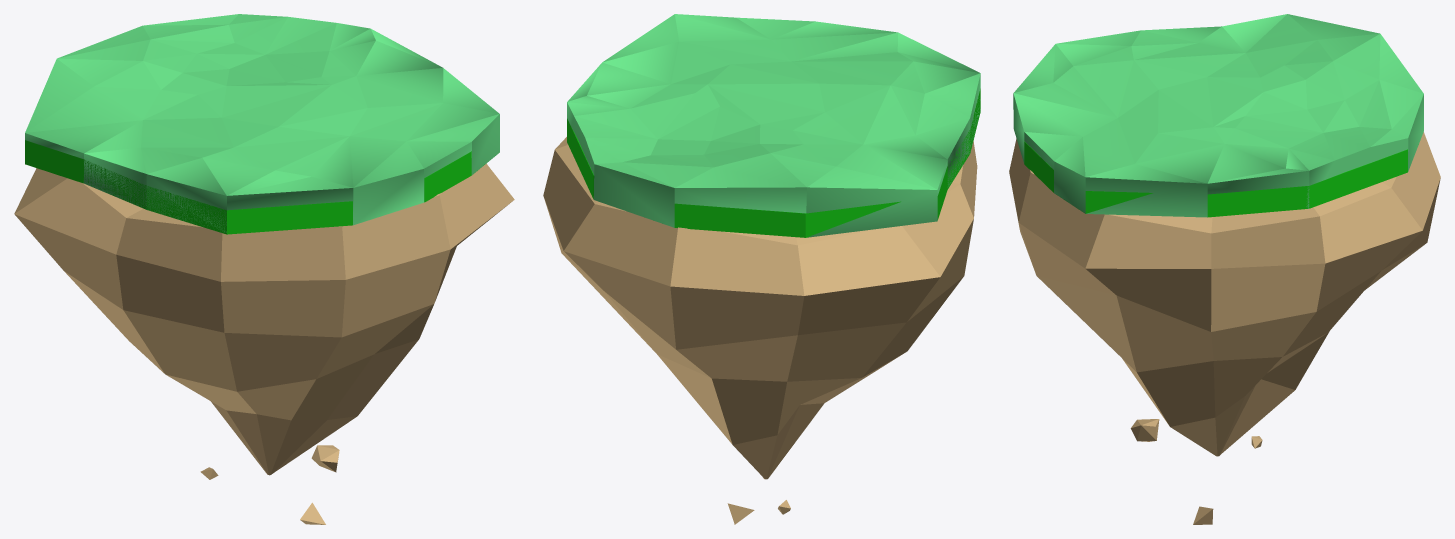
File: Low Poly Island.fbx
The picture shows the model from 3 angles, left to right: view 1: azimuth 30°, elevation 25°; view 2: azimuth 150°, elevation 25°; view 3: azimuth 270°, elevation 25°; orthographic projection. The views are drawn at different scales.
Visible parts, largest first — view 1: Island, Green_platform.002, Green_platform.001; view 2: Green_platform.002, Island, Green_platform.001; view 3: Island, Green_platform.002, Green_platform.001.
Part boxes in pixels (left/top/right/bottom): Island: left=14, top=163, right=514, bottom=524; Green_platform.002: left=25, top=14, right=499, bottom=232; Green_platform.001: left=25, top=140, right=486, bottom=234; Green_platform.002: left=567, top=14, right=980, bottom=237; Island: left=543, top=137, right=977, bottom=524; Green_platform.001: left=567, top=88, right=980, bottom=237; Island: left=1009, top=132, right=1440, bottom=524; Green_platform.002: left=1013, top=14, right=1423, bottom=217; Green_platform.001: left=1024, top=141, right=1407, bottom=217.
Size of the model in its own units: 3413 by 3606 by 3379.
